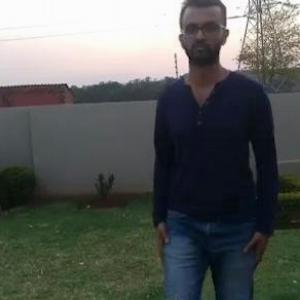follow: (169, 8, 292, 299)
